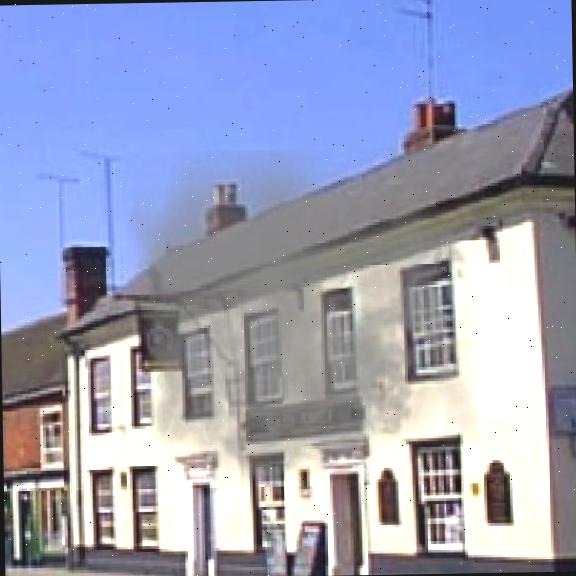smoke: (124, 146, 481, 509)
